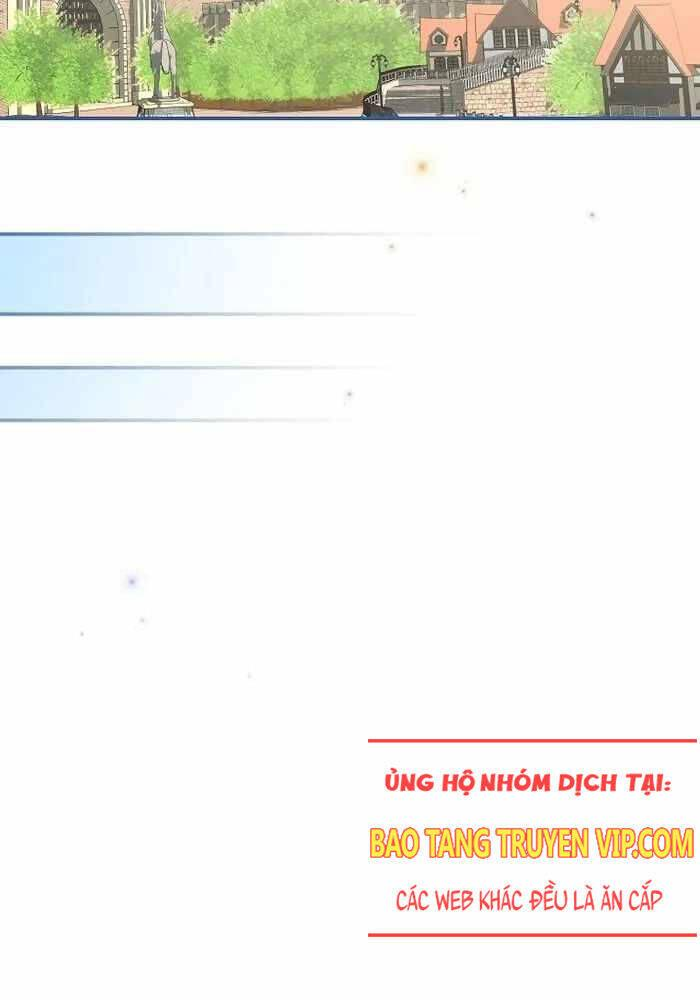quangcao: (367, 736, 700, 939)
